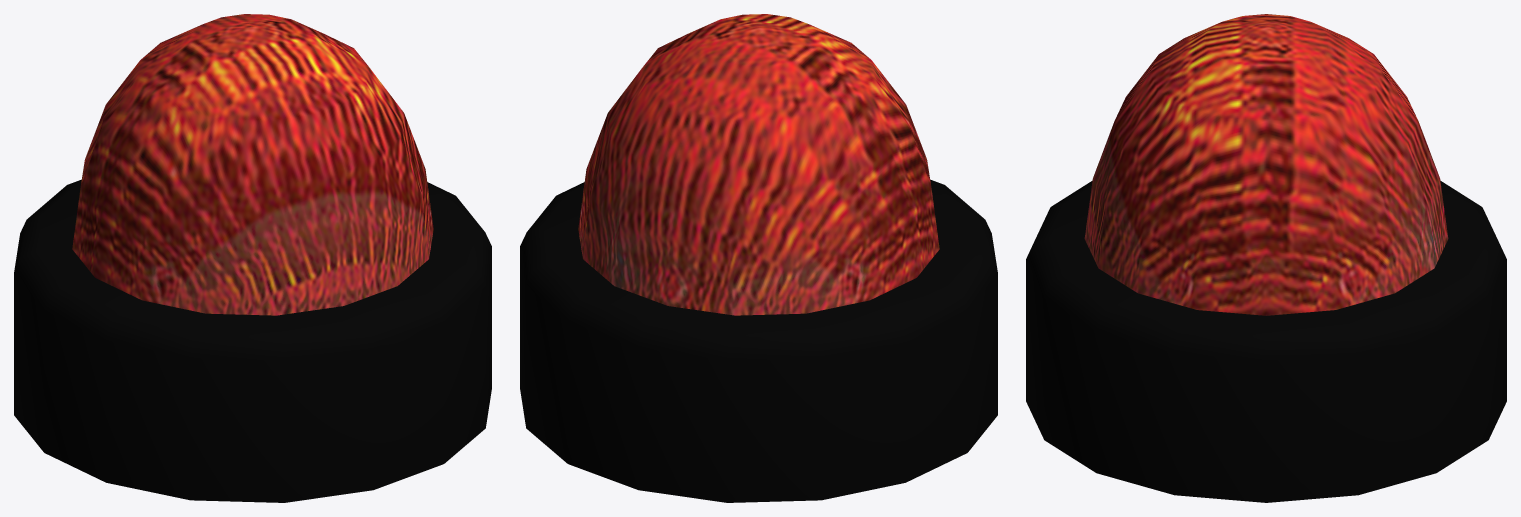
Rendered from Alarm.fbx.
3 views of the same model, side by side, from view 1: azimuth 30°, elevation 25°; view 2: azimuth 150°, elevation 25°; view 3: azimuth 270°, elevation 25° (orthographic).
Parts seen in each view (by area): view 1: Alarm; view 2: Alarm; view 3: Alarm.
Boxes of the visible parts, x1,y1,x2,y2 form: Alarm: [14, 14, 491, 502]; Alarm: [520, 14, 997, 502]; Alarm: [1026, 14, 1506, 502].
Size of the model in its own units: 292 by 249 by 292.
1 material, 1 textured.
